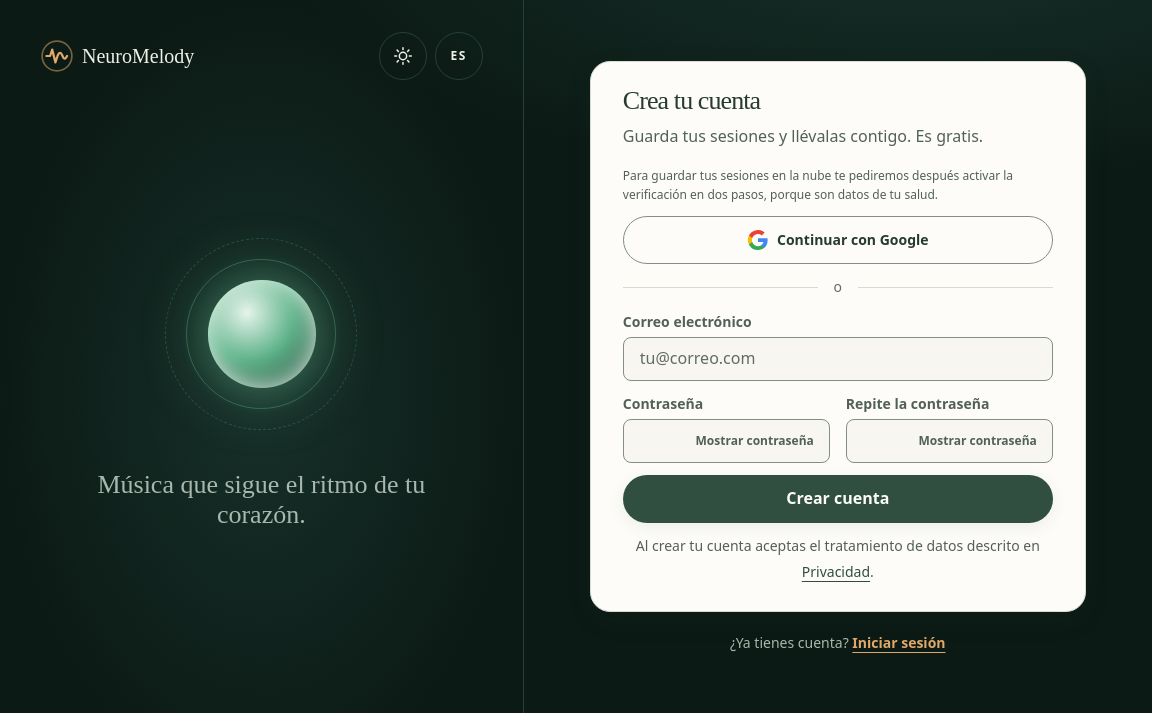
sign-in screens › marks what the new password already has and asks for the rest before creating the account
Type "persona@example.test" into the field labelled "Correo electrónico" at (838, 359), box [623, 337, 1053, 380]
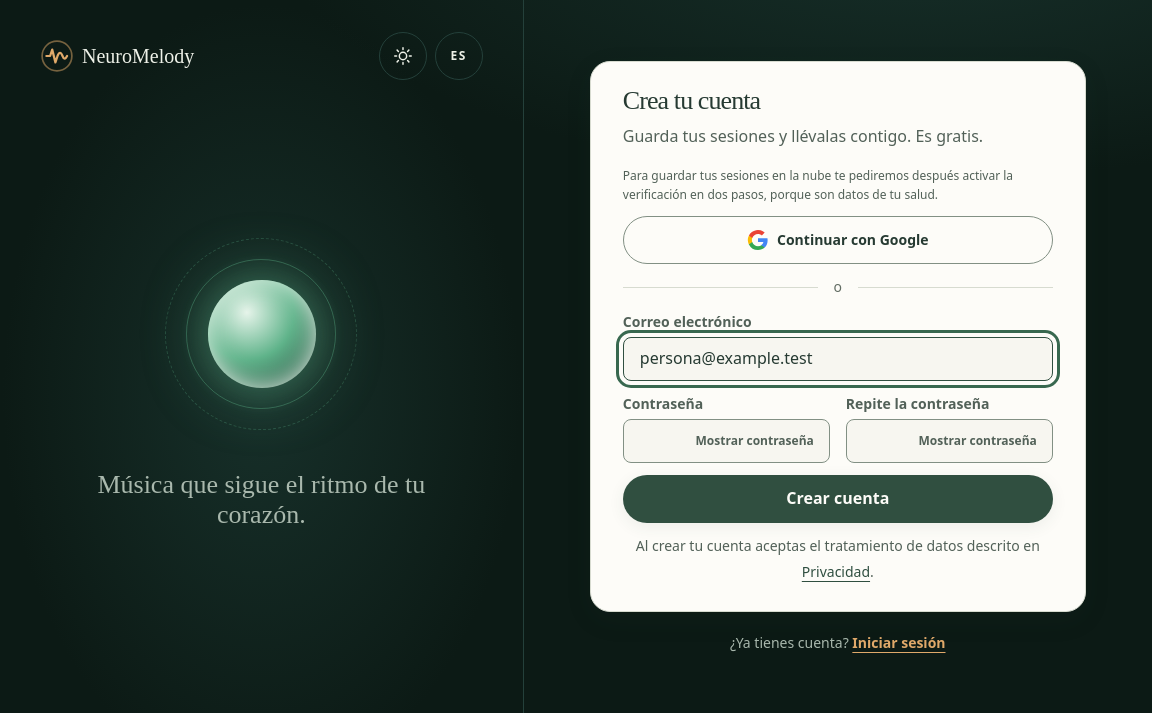
Type "sinmayuscula1" into the password field labelled "Contraseña" at (726, 441), box [623, 419, 830, 462]
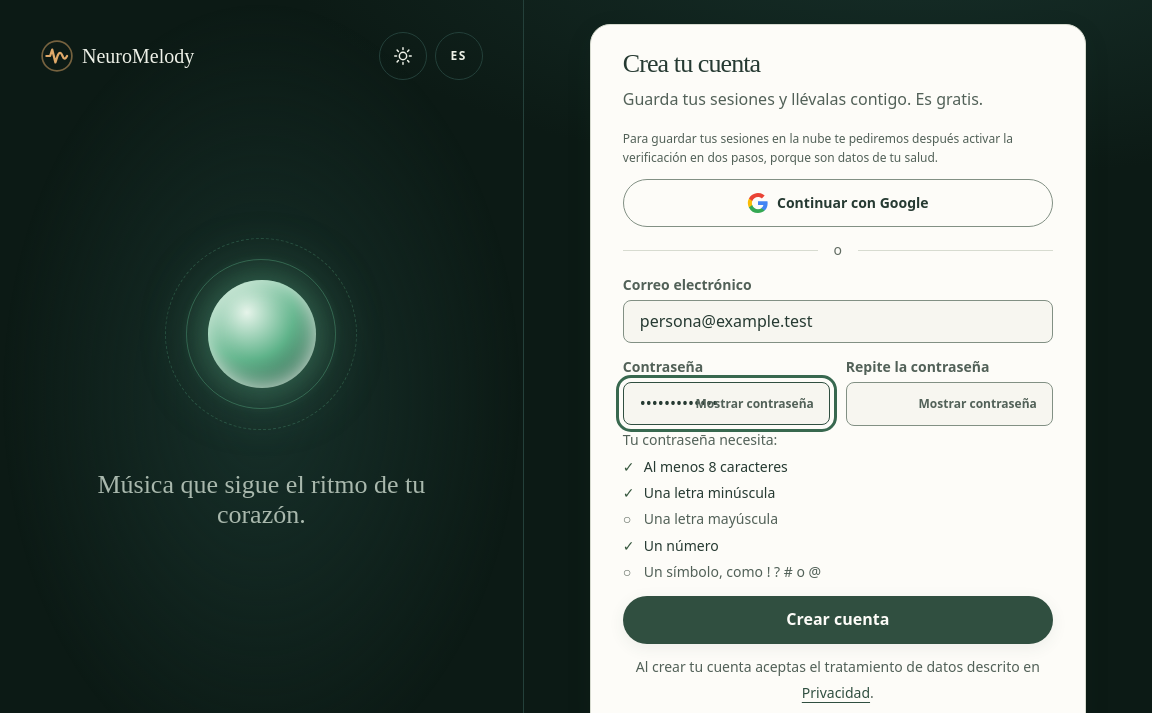
Type "sinmayuscula1" into the password field labelled "Repite la contraseña" at (949, 403), box [846, 382, 1053, 425]
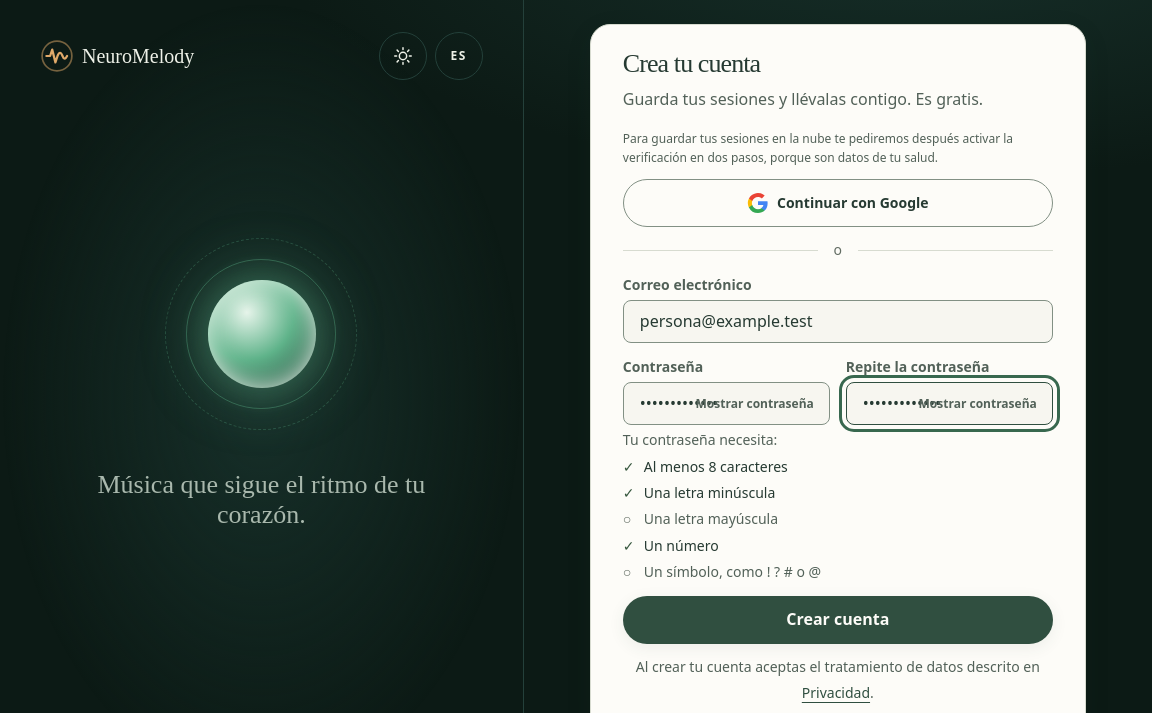
Click the button "Crear cuenta" at (838, 620), box [623, 596, 1053, 644]
(page scrolled)
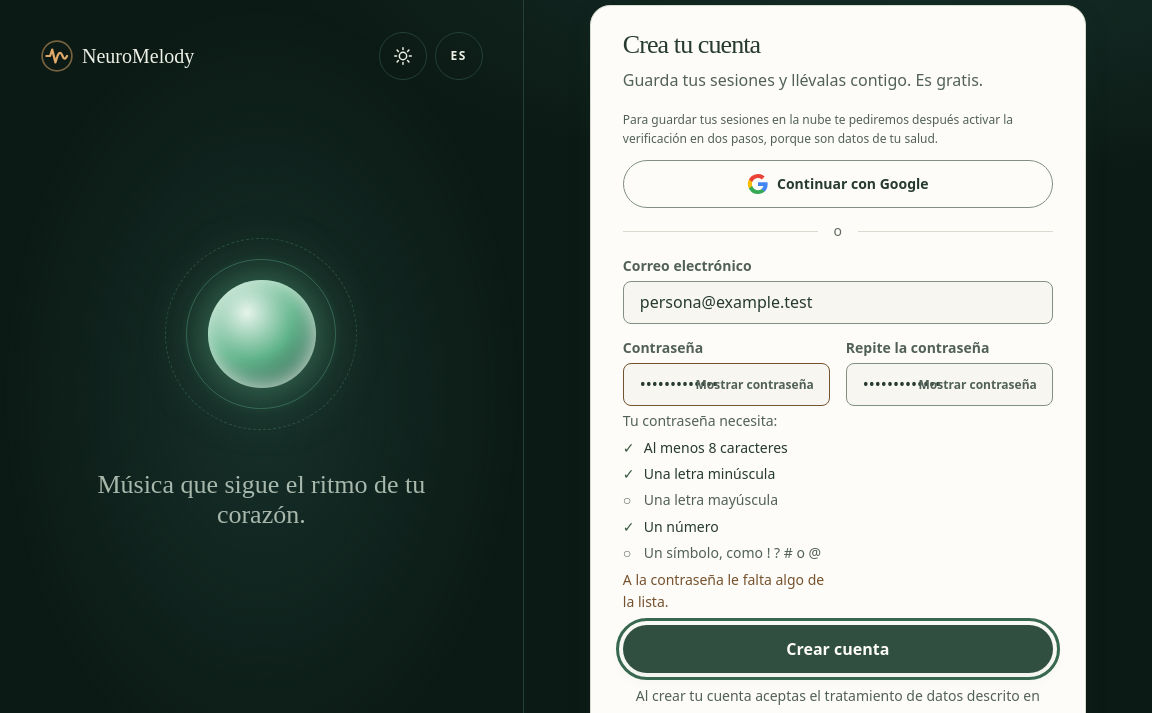
Result: the text "A la contraseña le falta algo de la lista." is shown at [623, 569, 830, 613]
